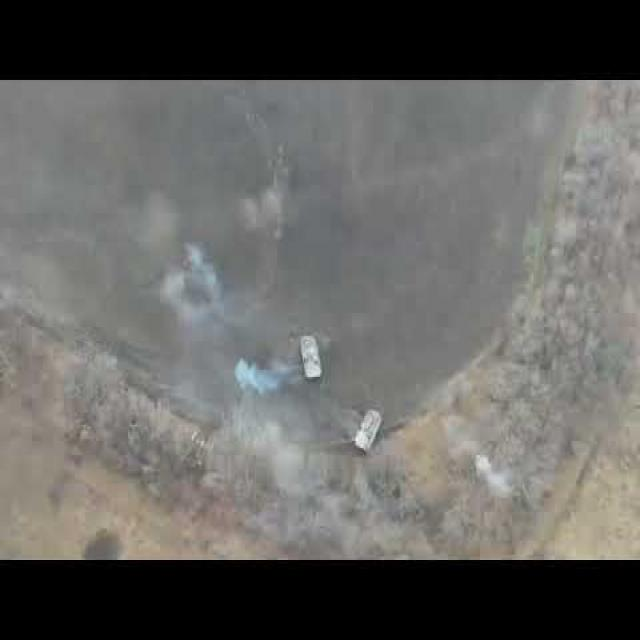apc: (354, 408, 382, 452), (299, 336, 323, 380)
